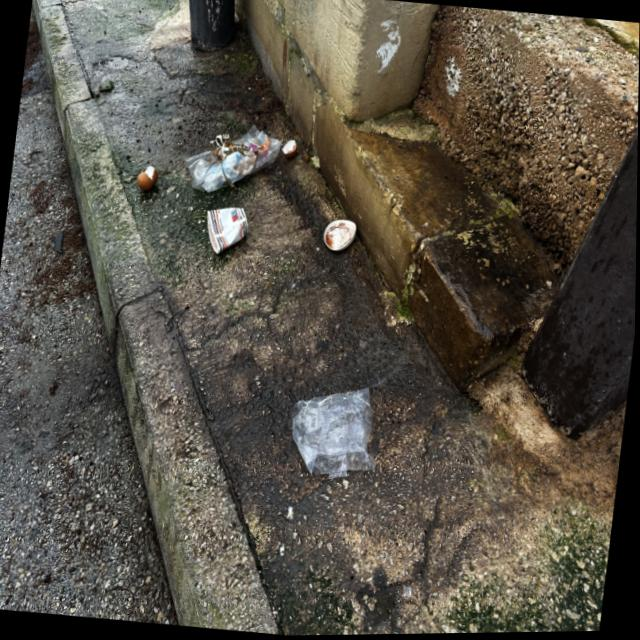Others Waste: (293, 389, 378, 477), (185, 124, 281, 192), (208, 207, 249, 256)
